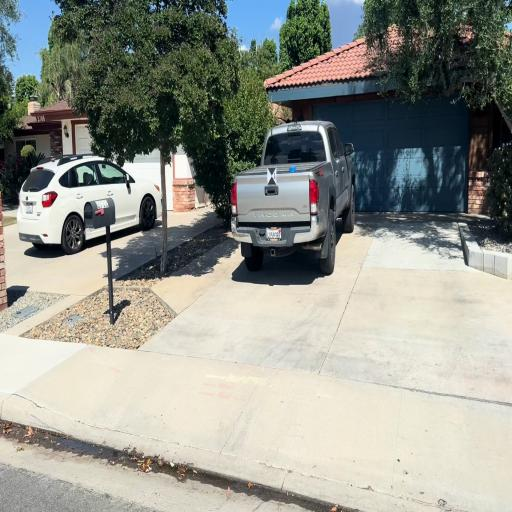target1: (268, 168, 276, 184)
